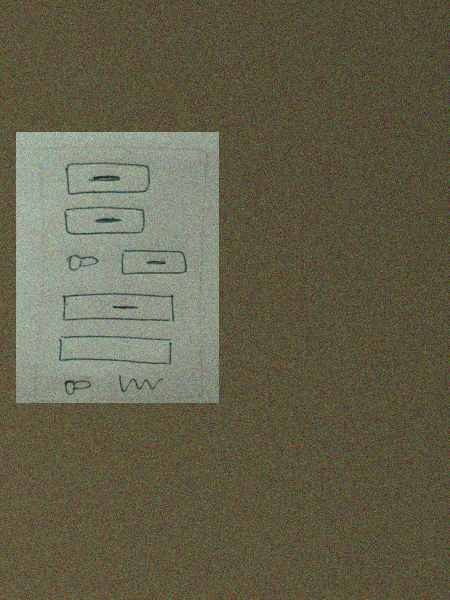button: (60, 157, 154, 200), (57, 291, 177, 324), (60, 202, 154, 244), (117, 246, 192, 277)
switch: (60, 375, 95, 397), (64, 250, 99, 272)
text: (116, 372, 166, 395)
text_input: (55, 333, 174, 368)
